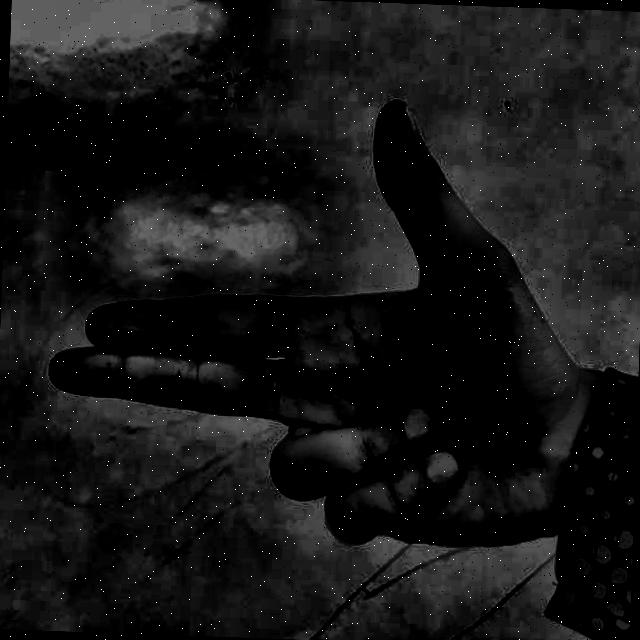Jha: (38, 61, 606, 628)
